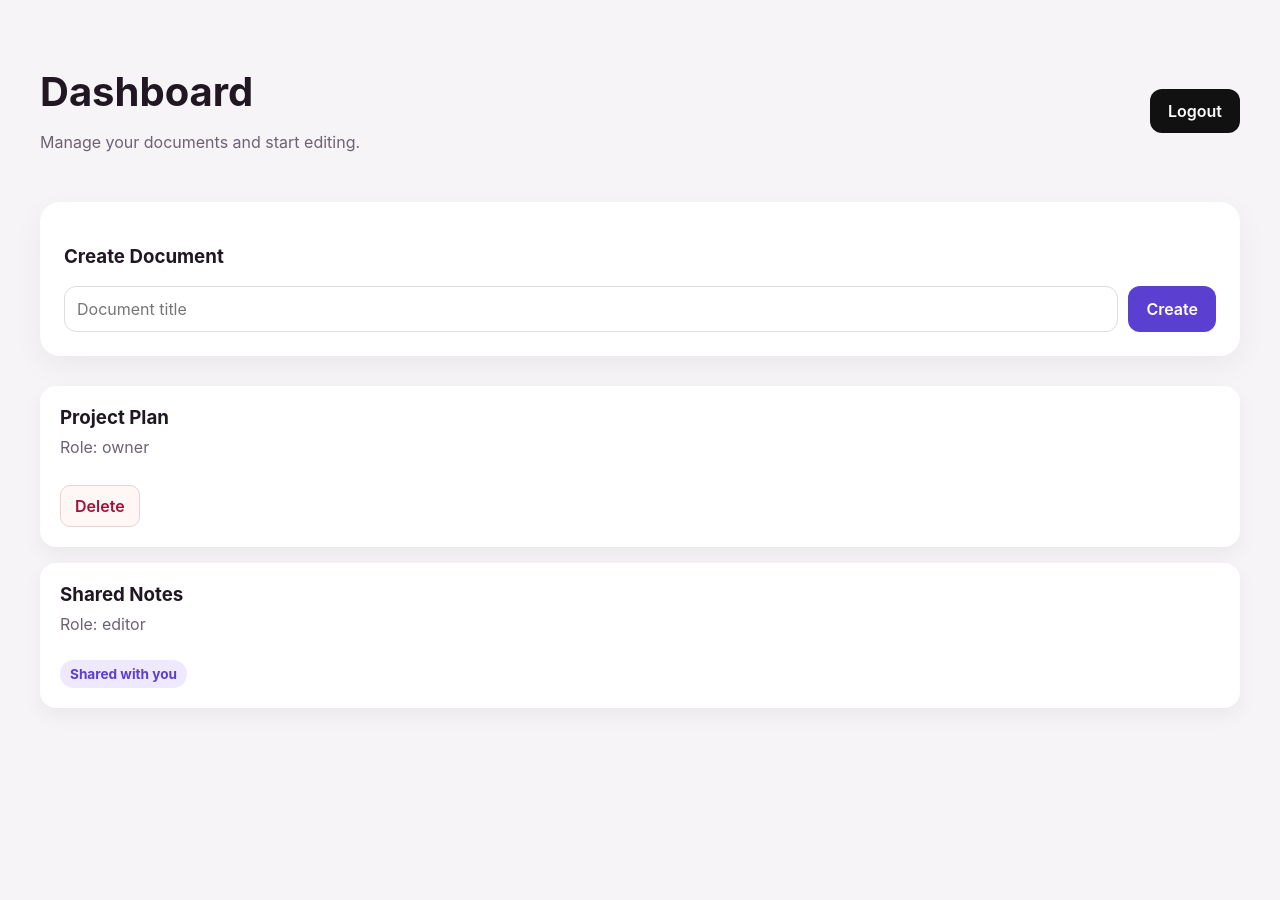
deletes an owned document from the dashboard
Expected: the heading "Project Plan" is shown, [60,406,169,429]
Click the button "Delete" at x=100, y=506, box [60,485,140,527]
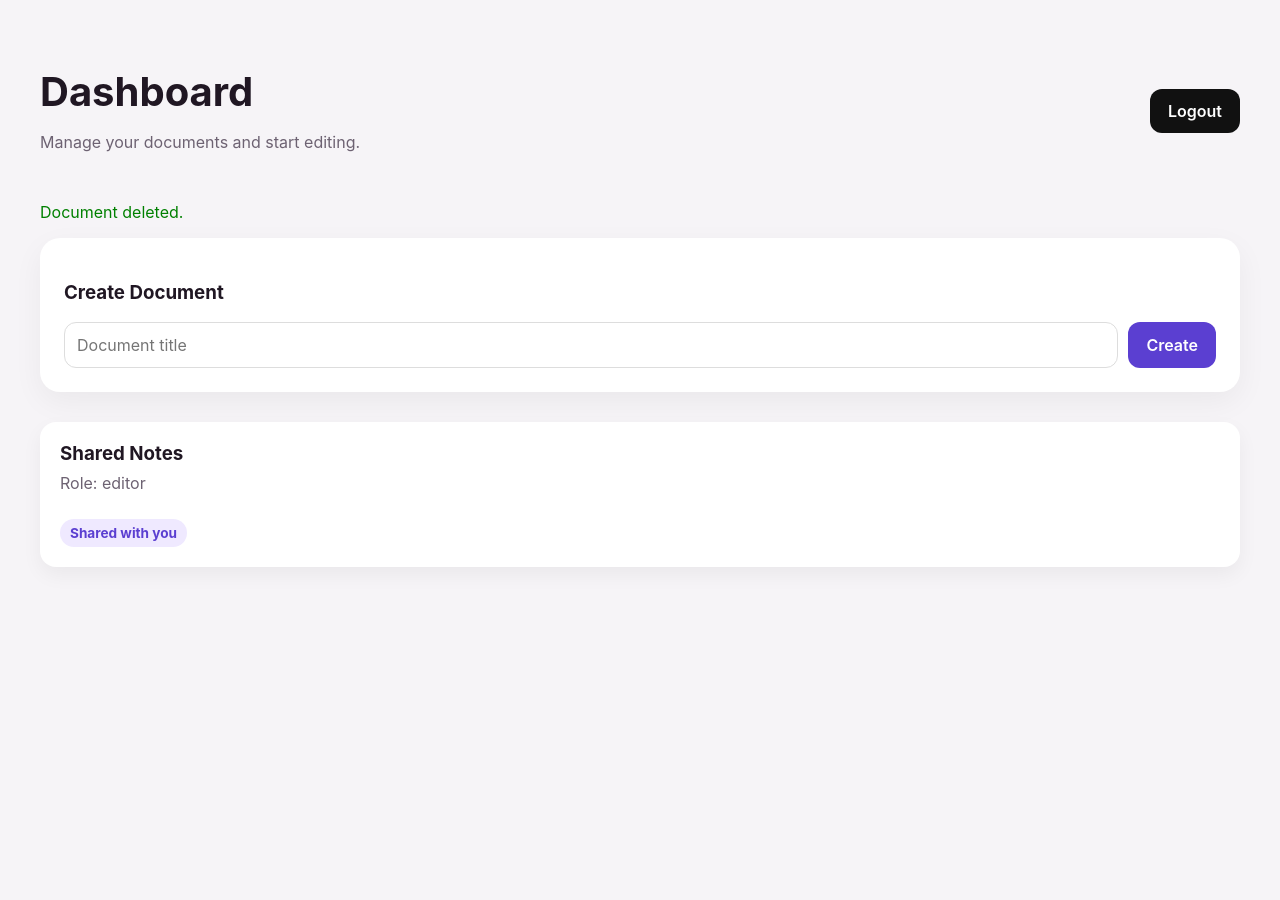
Expected: the heading "Shared Notes" is shown, [60,442,183,465]
Result: the heading "Project Plan" is gone
Result: the text "Document deleted." is shown at [40,202,183,222]
